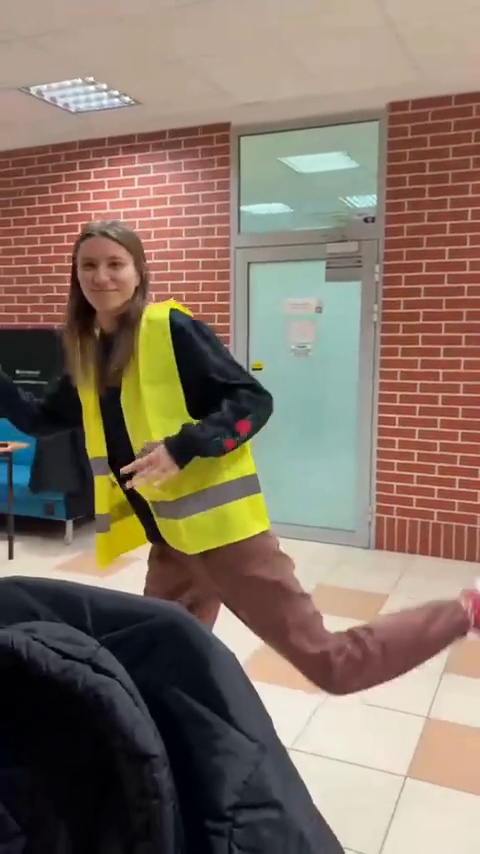vest: (51, 207, 378, 715)
